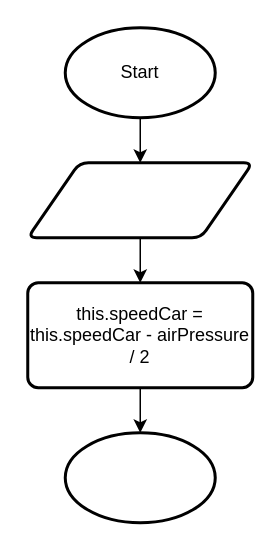
This 279x549 diagram has some shape labels left out. Each missing label, with the box of its shape:
get airPressure: (26, 160, 254, 238)
Stop: (63, 430, 216, 524)
